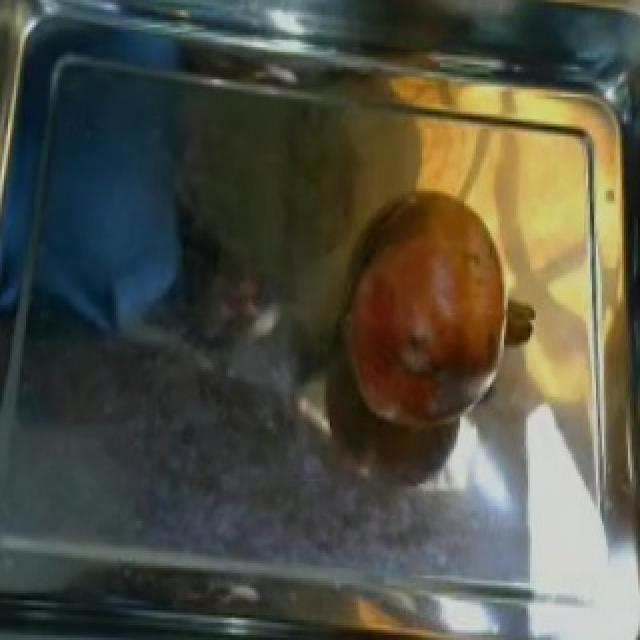fruit: (328, 169, 528, 439)
